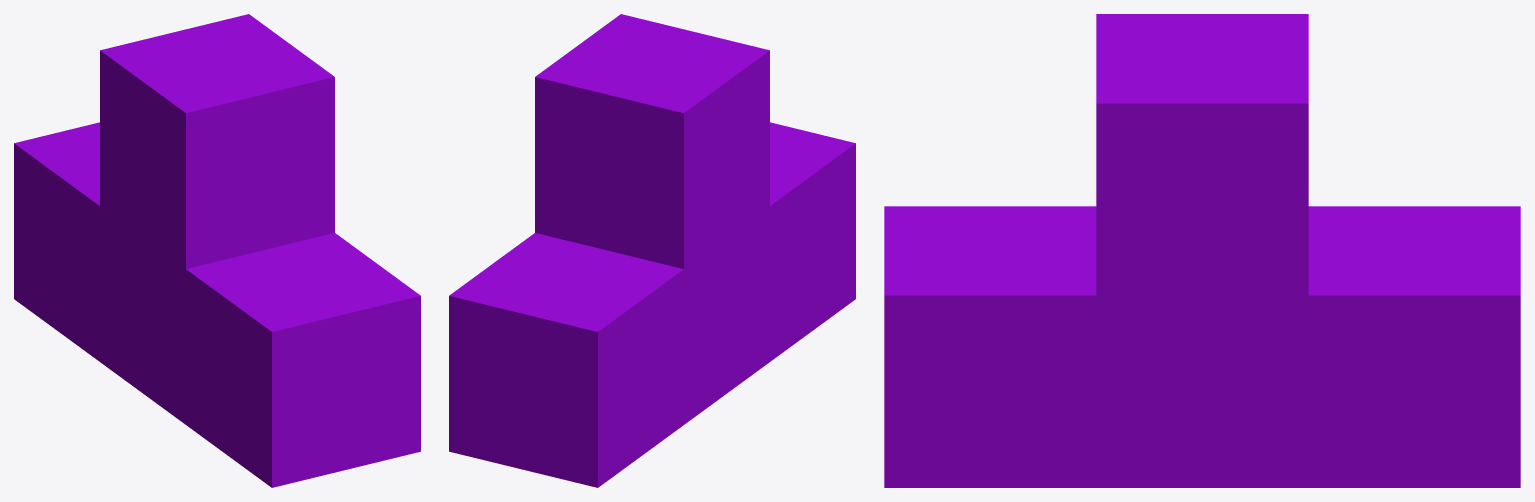
3 renders of one model, left to right at view 1: azimuth 30°, elevation 25°; view 2: azimuth 150°, elevation 25°; view 3: azimuth 270°, elevation 25°, orthographic. The views are drawn at different scales.
Parts seen in each view (by area): view 1: Cube.001; view 2: Cube.001; view 3: Cube.001.
Part boxes in pixels (x1=…): Cube.001: x1=14, y1=14, x2=420, y2=487; Cube.001: x1=449, y1=14, x2=855, y2=487; Cube.001: x1=884, y1=14, x2=1520, y2=487.
Size of the model in its own units: 200 by 400 by 600.
